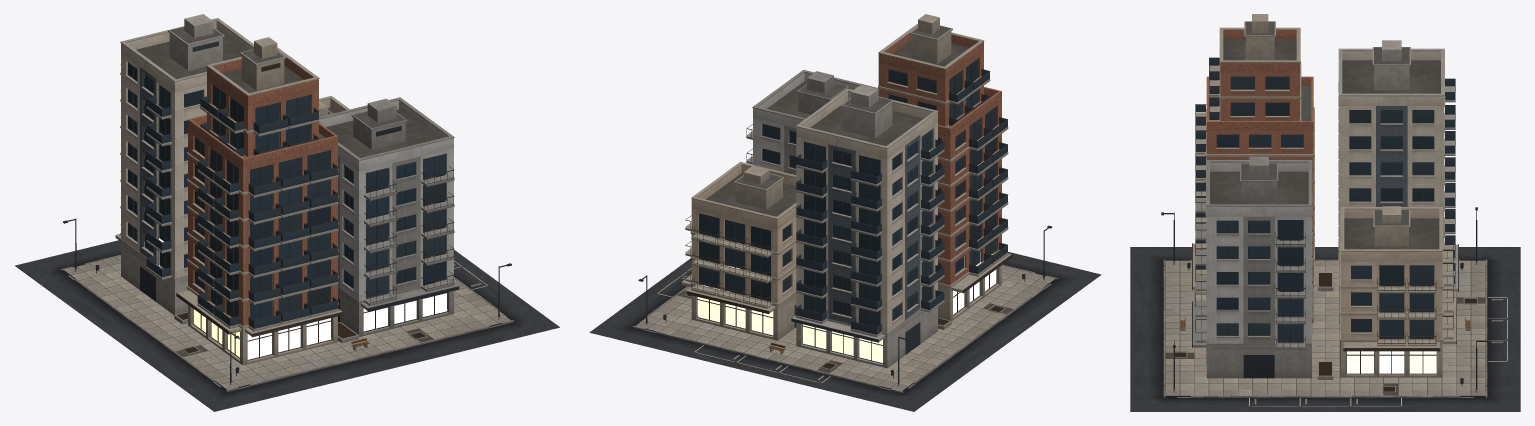
Rendered from modulo_C_lod0.glb.
3 views of the same model, side by side, from view 1: azimuth 30°, elevation 25°; view 2: azimuth 150°, elevation 25°; view 3: azimuth 270°, elevation 25° (orthographic). The views are drawn at different scales.
Parts seen in each view (by area): view 1: modulo_C_lod0_tex, modulo_C_lod0_solid; view 2: modulo_C_lod0_tex, modulo_C_lod0_solid; view 3: modulo_C_lod0_tex, modulo_C_lod0_solid.
Part boxes in pixels (bbox=[...]): modulo_C_lod0_tex: bbox=[15, 14, 559, 411]; modulo_C_lod0_solid: bbox=[63, 41, 511, 382]; modulo_C_lod0_tex: bbox=[589, 14, 1101, 411]; modulo_C_lod0_solid: bbox=[638, 58, 1052, 384]; modulo_C_lod0_tex: bbox=[1130, 14, 1520, 411]; modulo_C_lod0_solid: bbox=[1161, 37, 1489, 389].
Bounding box in the file's own units: 40 × 32.31 × 40.
11 materials, 7 textured.
